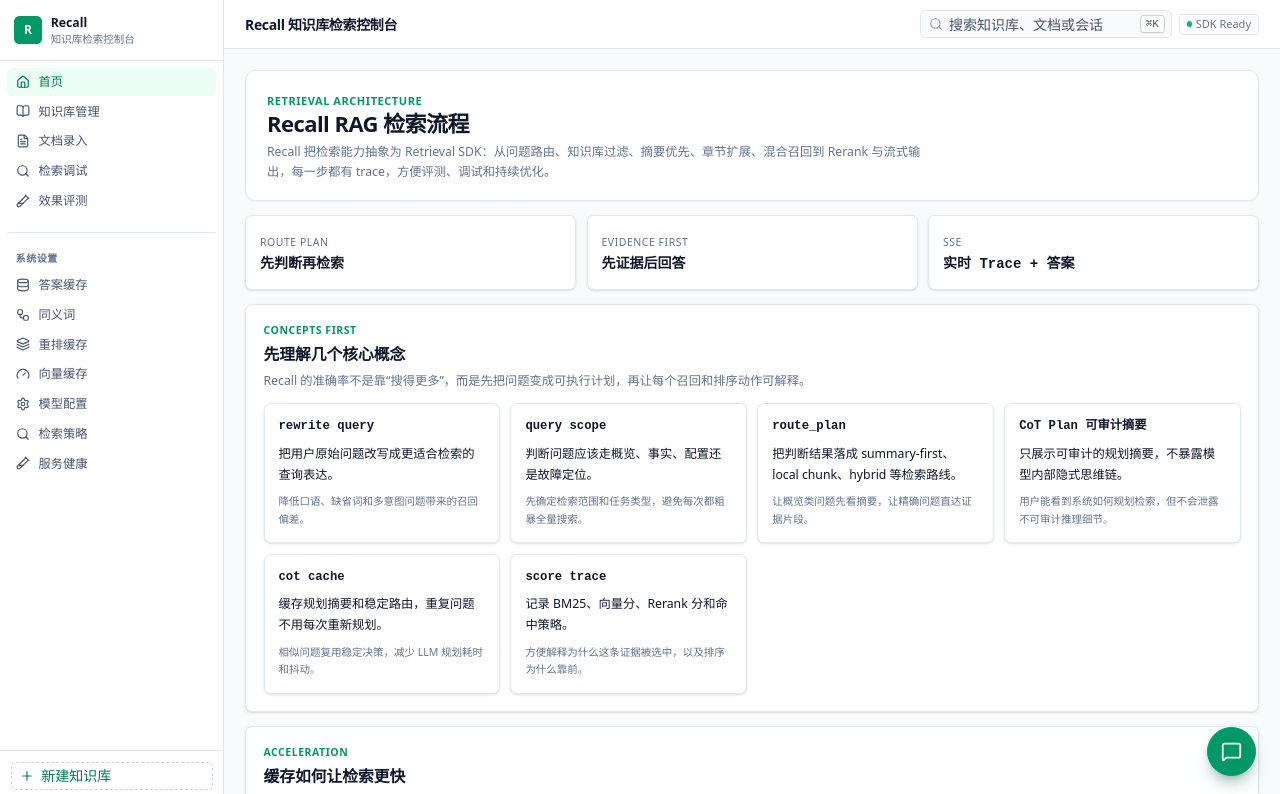
Test: app shell and chat assistant › keeps unfinished settings sections as blank states
This screenshot has width=1280, height=794.
Click the link "答案缓存": (52, 284) [16,276,88,293]
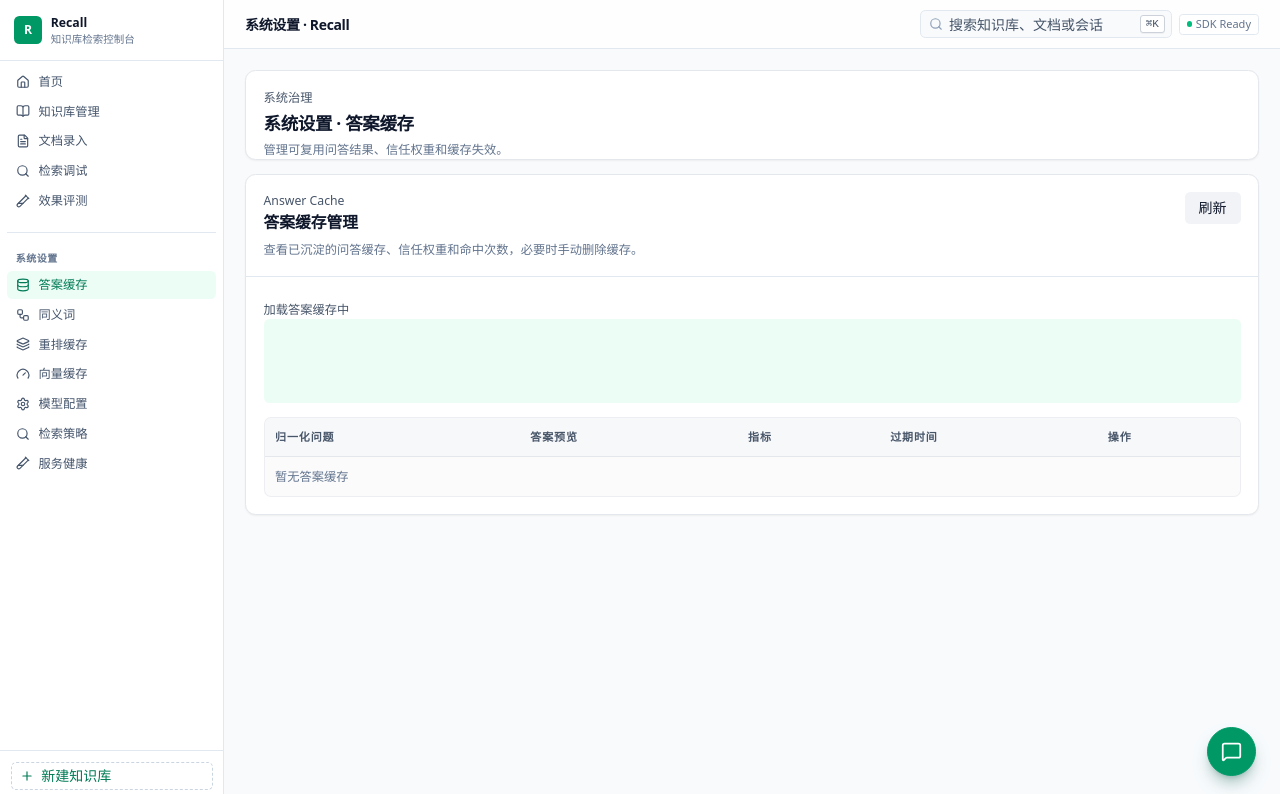
Click the link "模型配置": (52, 404) [16,395,88,412]
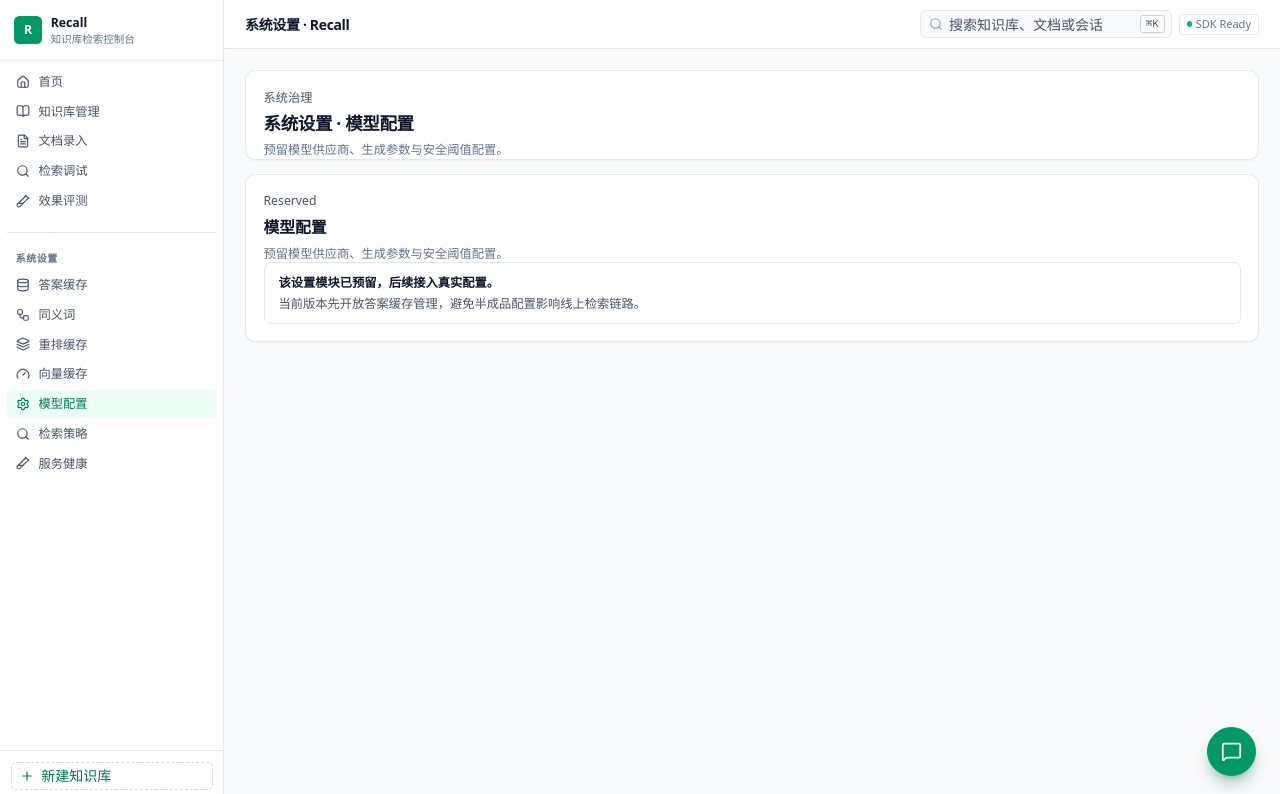
Result: the heading "模型配置" is shown at [264,216,326,238]
Result: the text "该设置模块已预留，后续接入真实配置。" is shown at [278,274,499,291]
